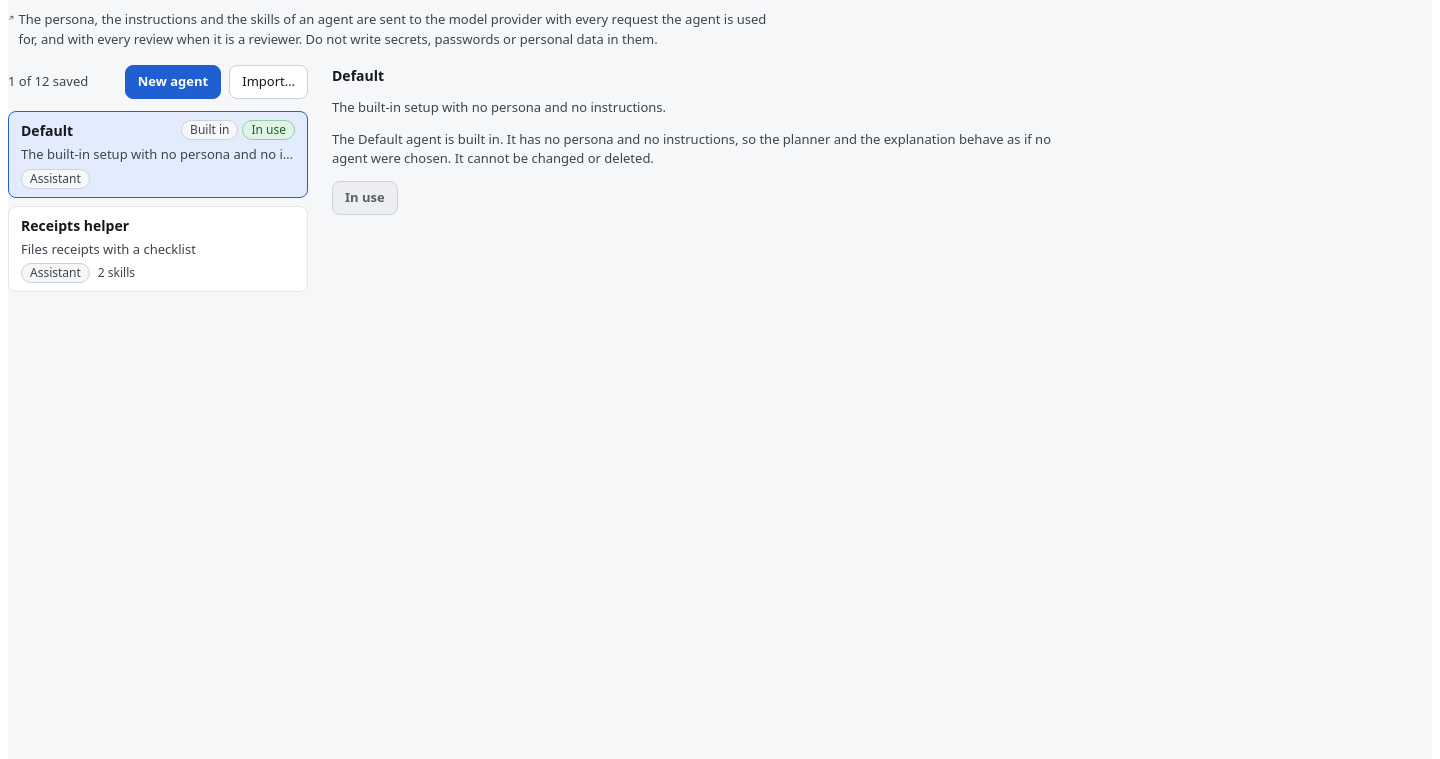
Scenario: the skills picker › goes back to clean when the checks are put back
The image size is (1440, 759).
Expected: the list named "Agent list" is shown, [8,111,308,292]
Click the button "Receipts helper": (158, 249) [8,206,308,292]
(page scrolled)
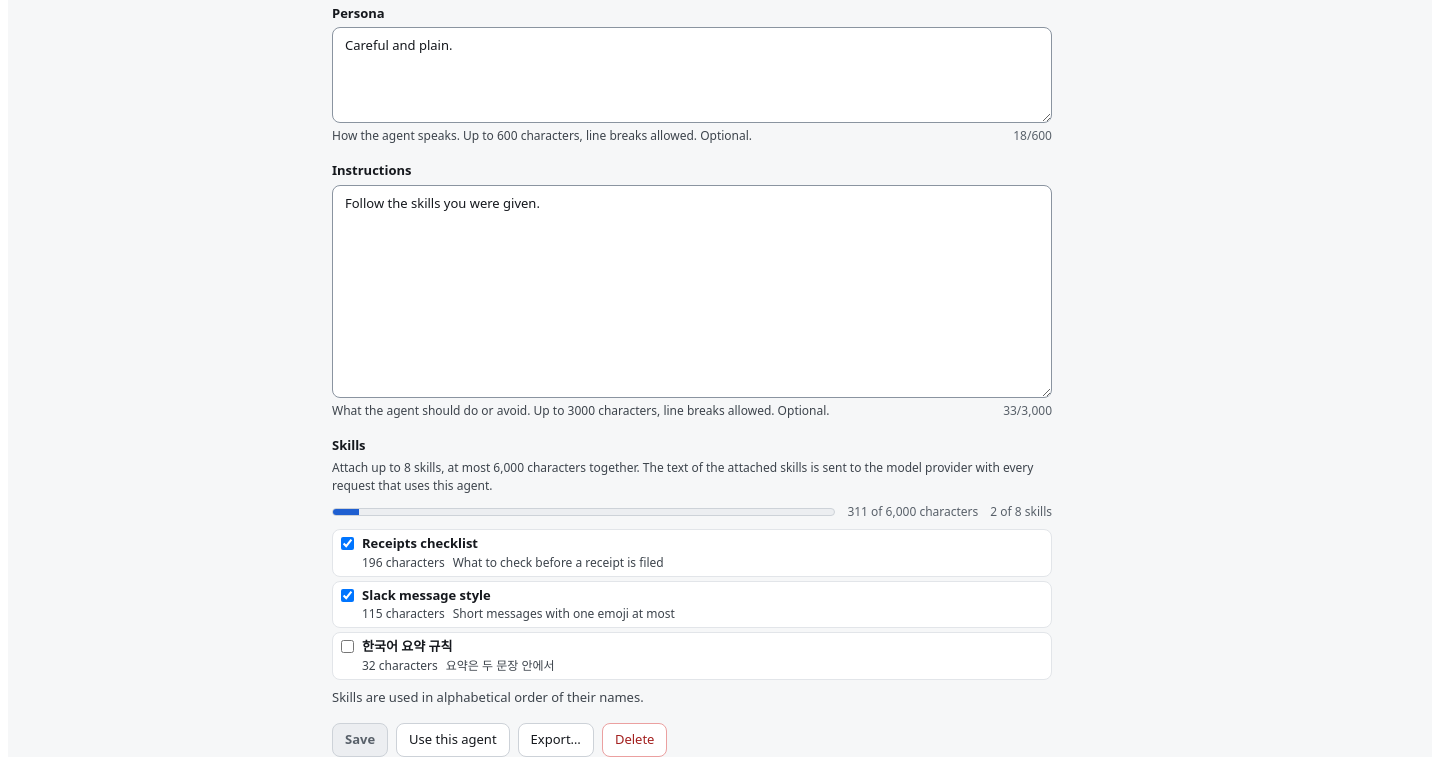
Click the checkbox labelled "Receipts checklist": (348, 544) [341,537,354,550]
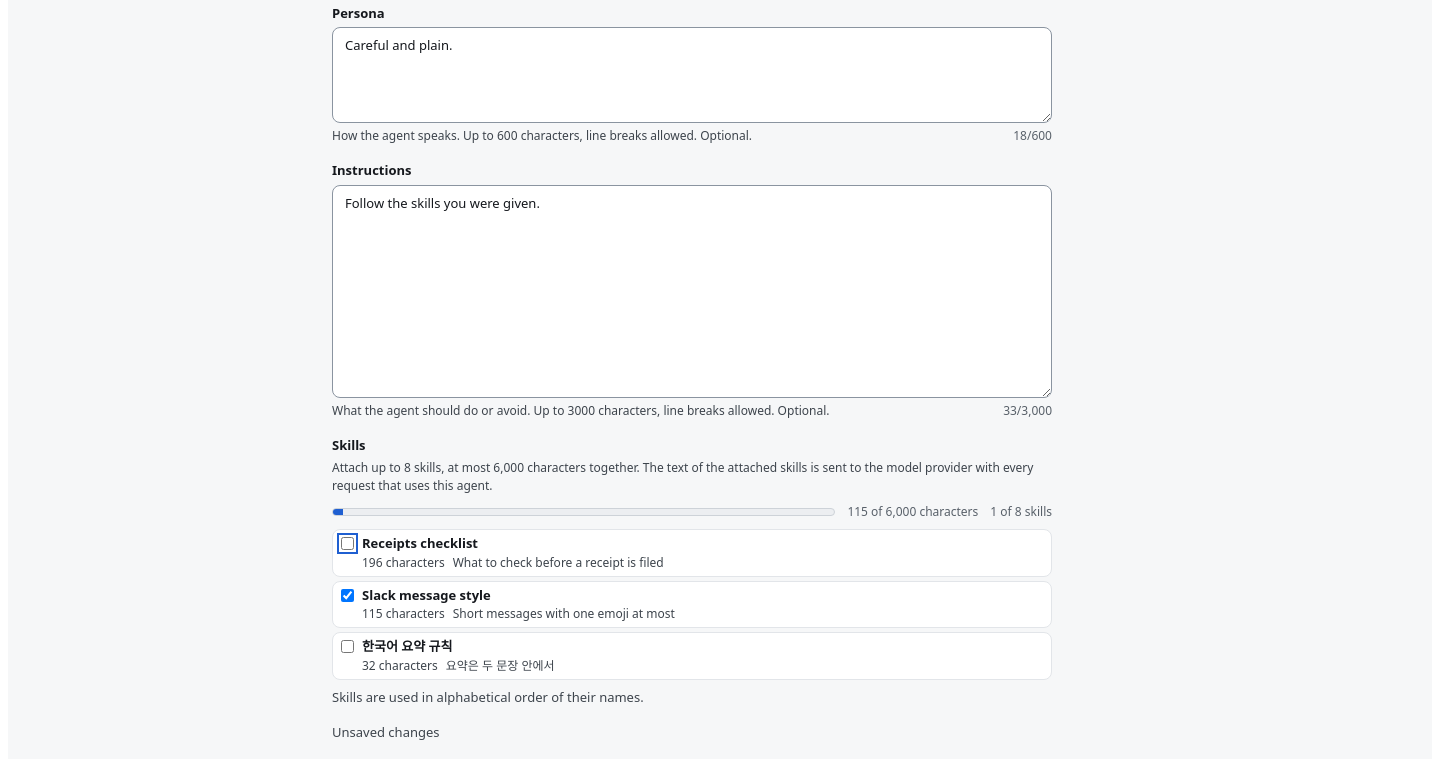
Click the checkbox labelled "Receipts checklist": (348, 544) [341,537,354,550]
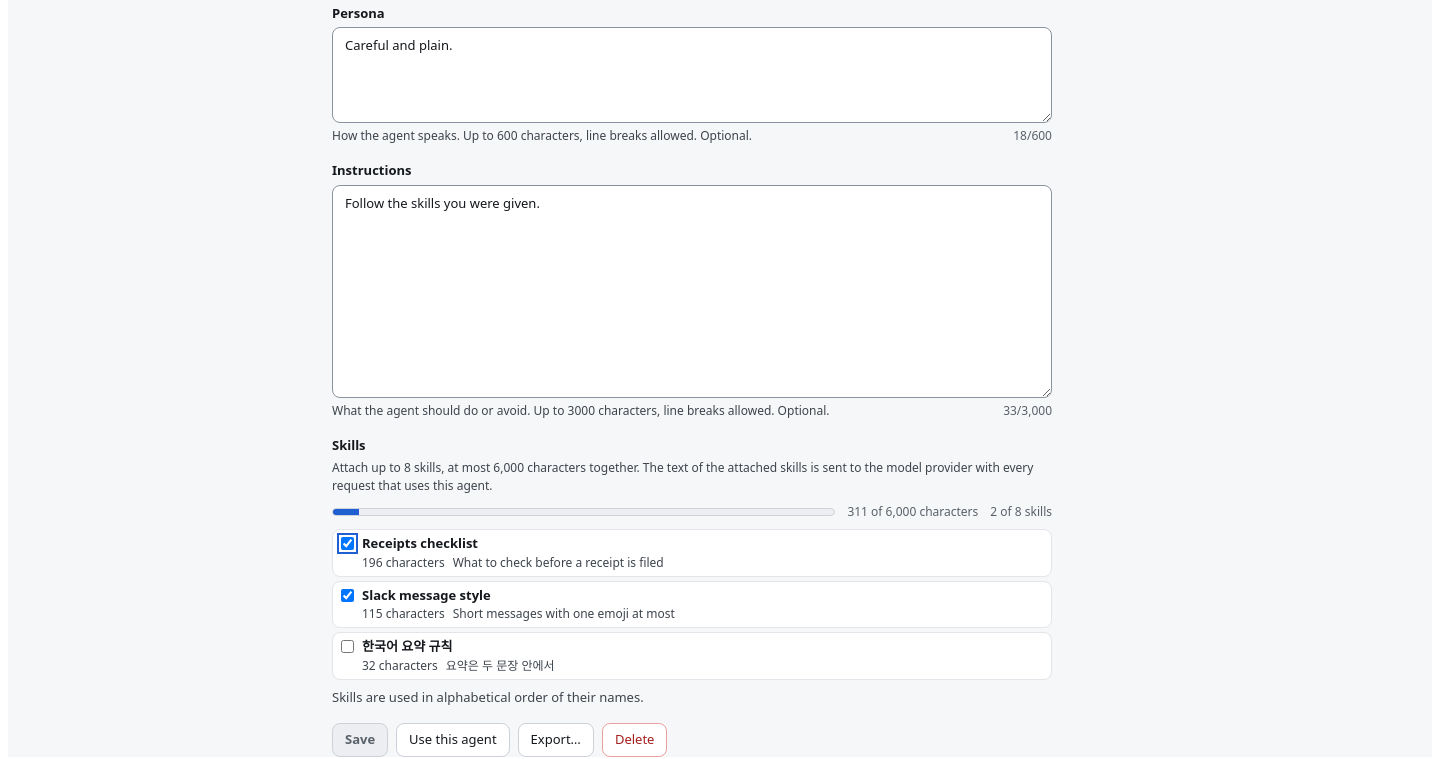
Now the text "Unsaved changes" is gone
